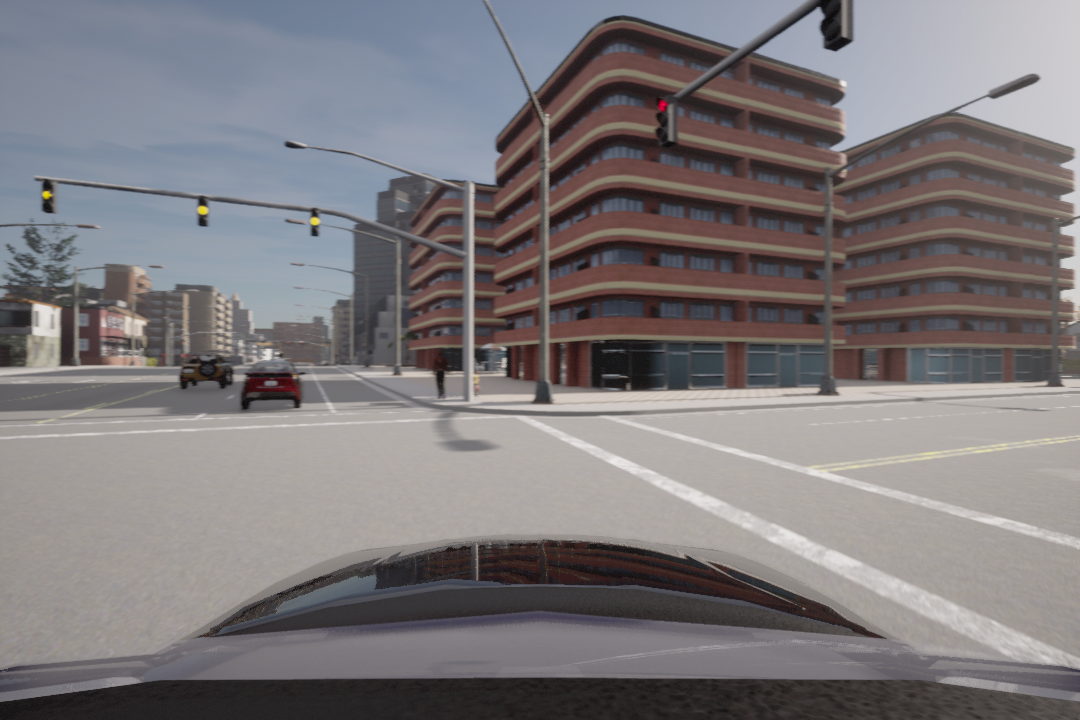TrafficLight: (651, 92, 677, 145), (40, 174, 55, 213), (308, 203, 321, 241), (196, 192, 210, 227)
